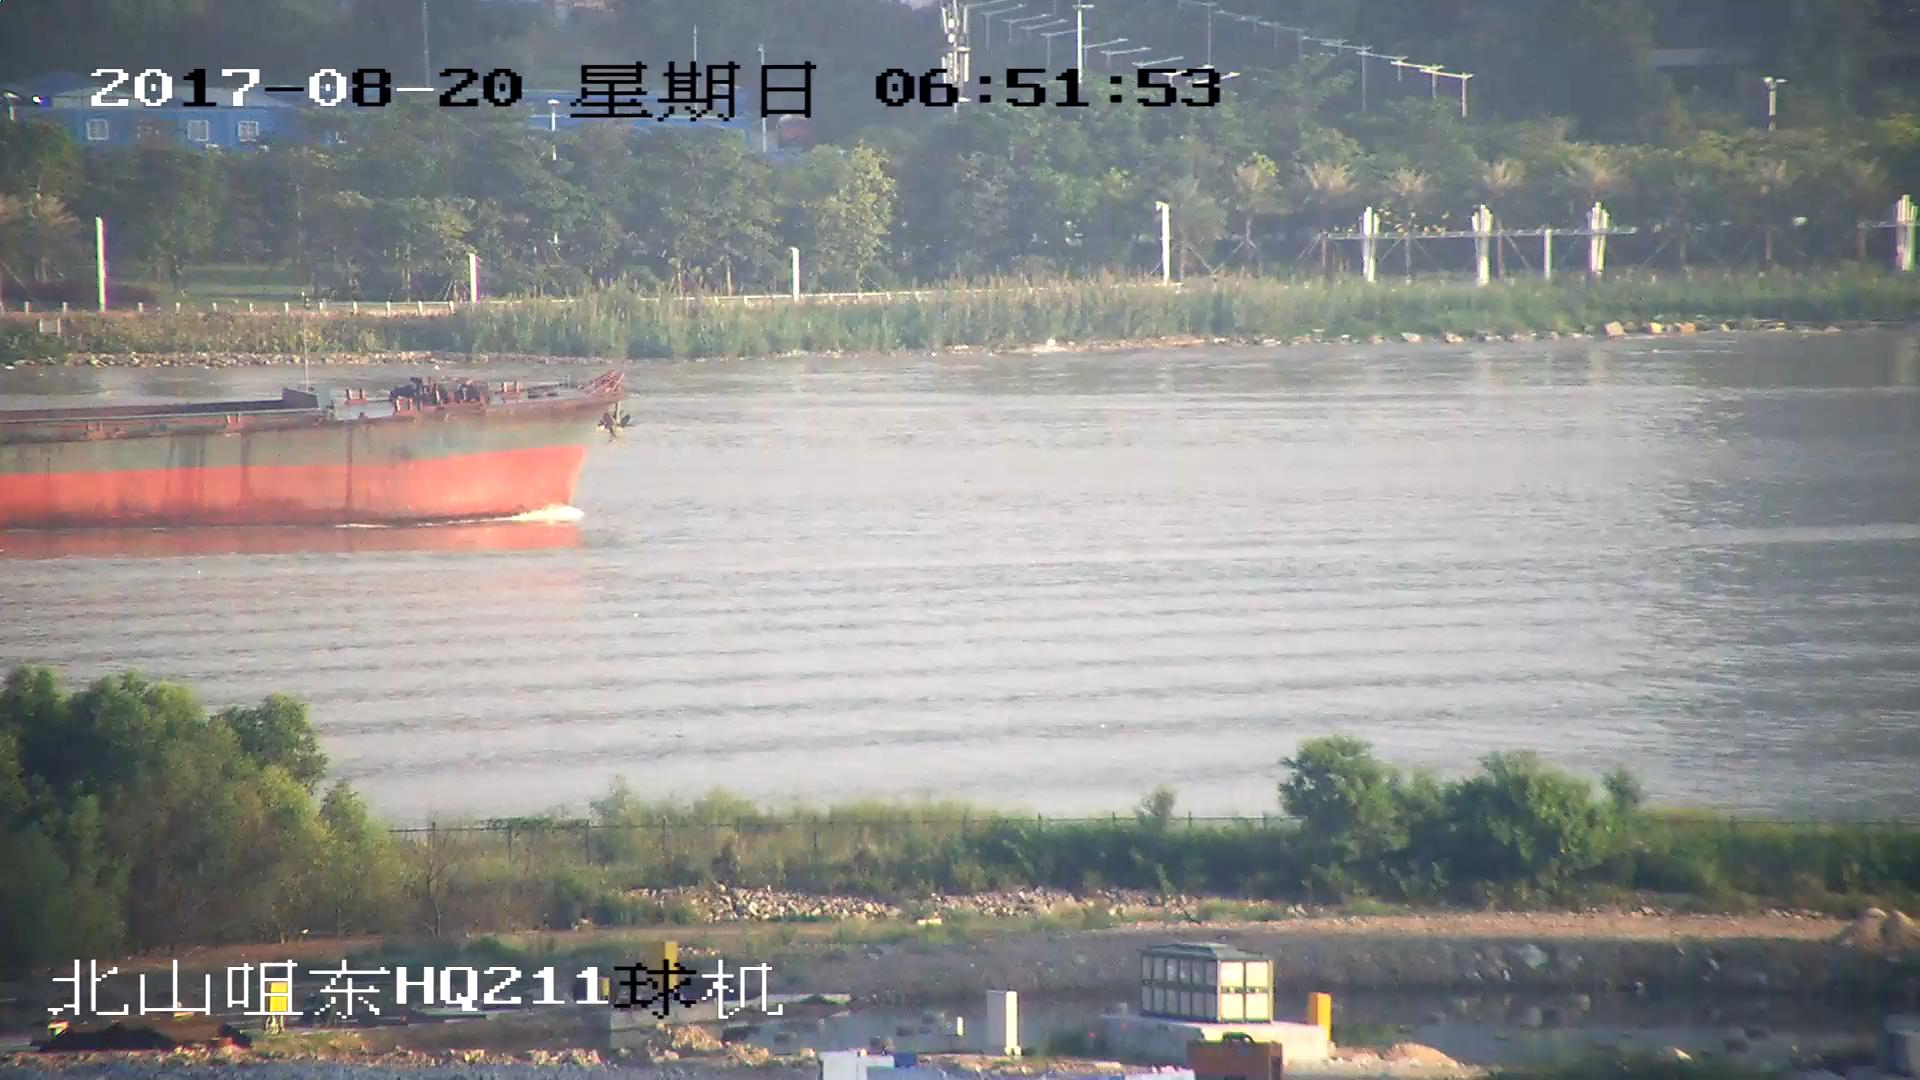bulk cargo carrier: (1, 371, 627, 535)
